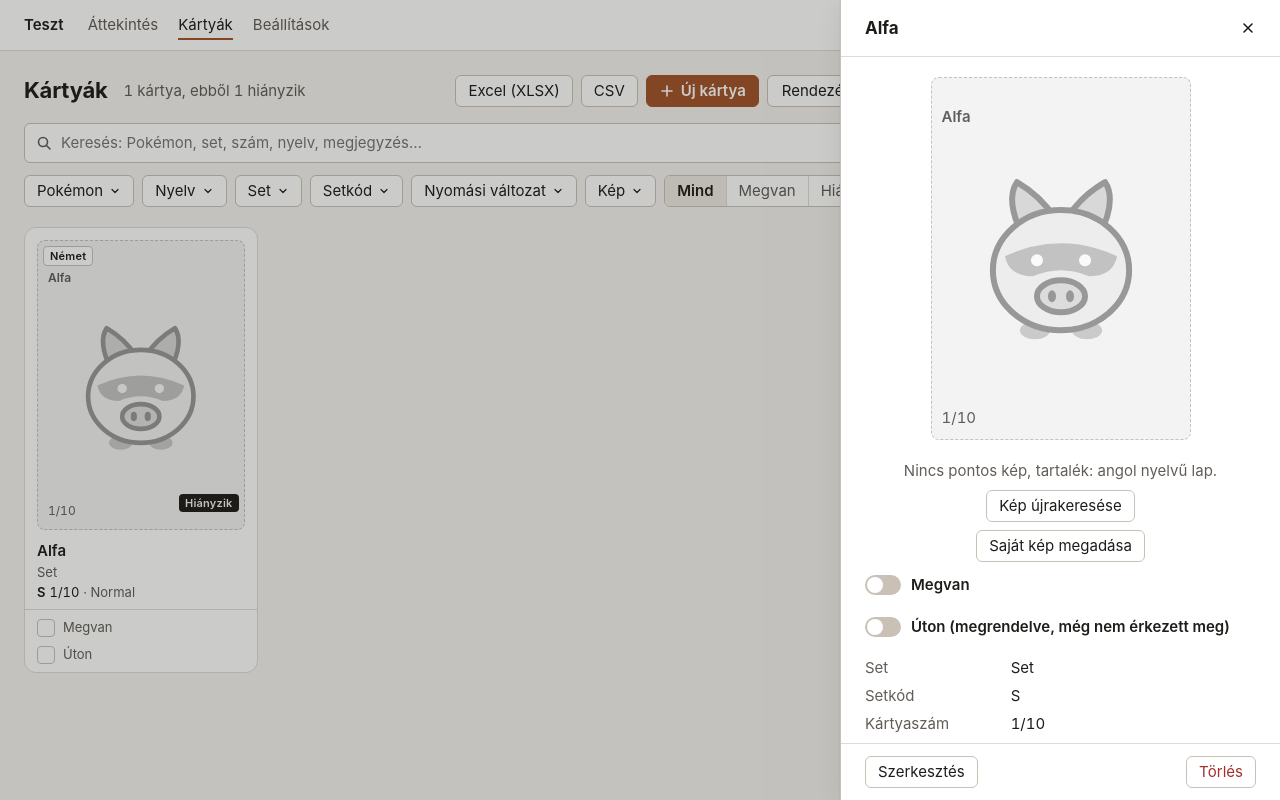
Test case: részletek és beállítások (S-43, S-40/EF4) › S-43: "Kép újrakeresése" gomb, az eredmény a panelen látszik
This screenshot has width=1280, height=800.
Expected: the text with test id "image-result" reads "Nincs pontos kép, tartalék: angol nyelvű lap.", [904, 461, 1217, 480]
Click the button "Kép újrakeresése". click: coordinates (1060, 506)
box: [986, 490, 1135, 522]
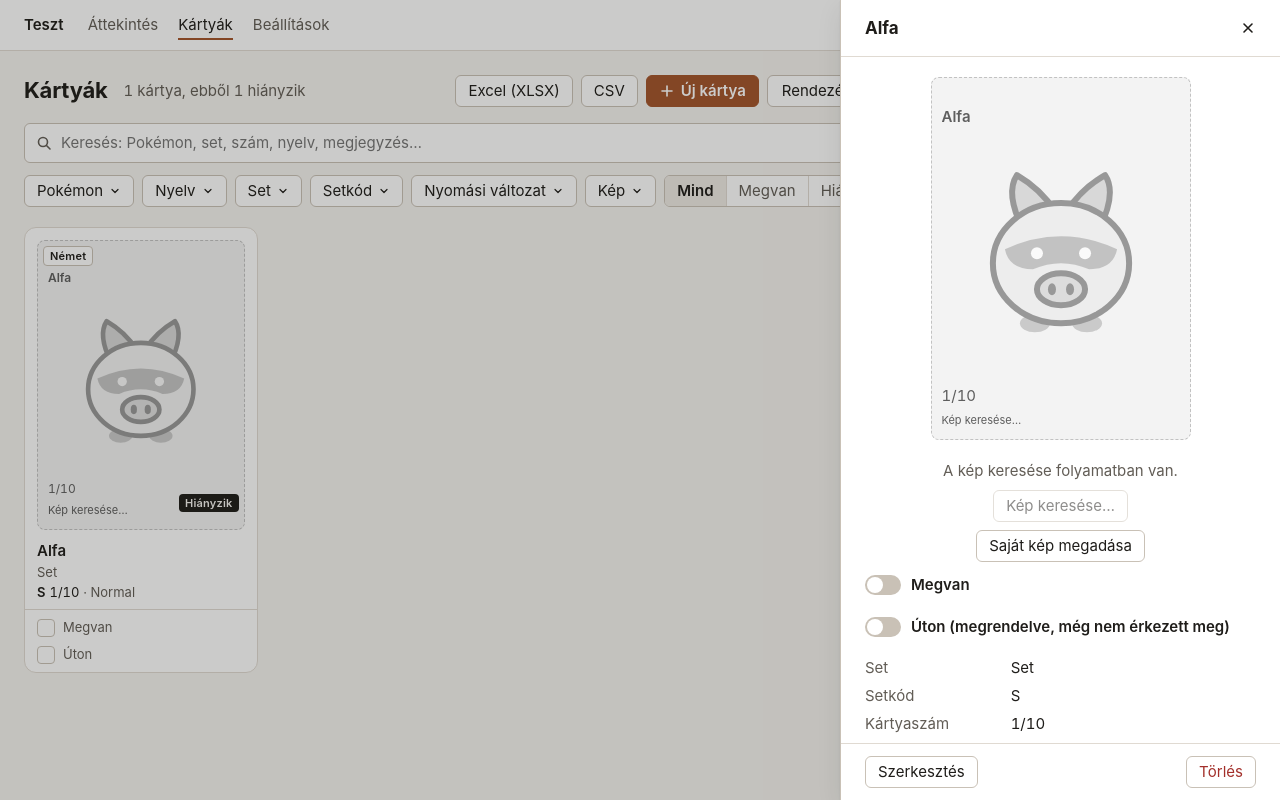
Now the button "Kép keresése…" is disabled, box [993, 490, 1128, 522]
Now the text with test id "image-result" shows "folyamatban", box [943, 461, 1178, 480]
